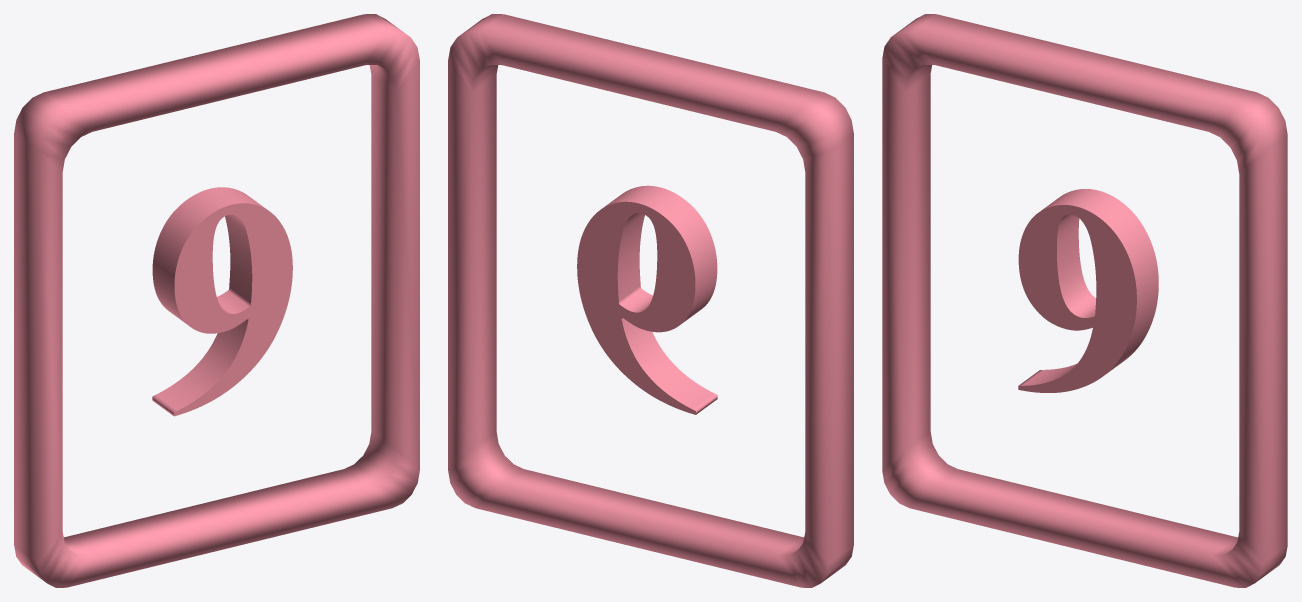
The model's file is Number_9.gltf.
3 renders of one model, left to right at view 1: azimuth 30°, elevation 25°; view 2: azimuth 150°, elevation 25°; view 3: azimuth 330°, elevation 25°, orthographic.
Parts seen in each view (by area): view 1: Numbers.010; view 2: Numbers.010; view 3: Numbers.010.
Boxes of the visible parts, box(x1,y1,x2,y2) form: Numbers.010: box(14, 14, 419, 587); Numbers.010: box(448, 14, 853, 587); Numbers.010: box(882, 14, 1287, 587).
Size of the model in its own units: 1 by 1.2 by 0.1143.
